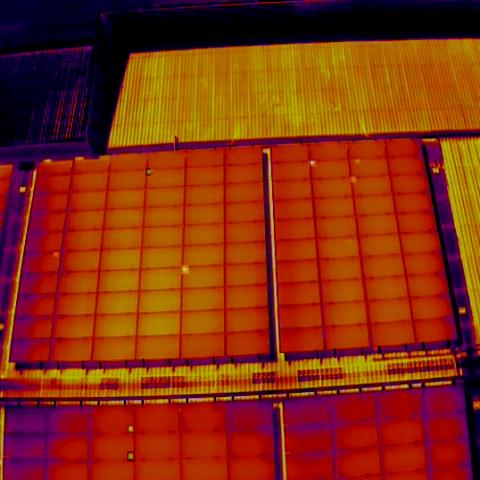fault: (127, 451, 135, 462), (181, 265, 189, 274), (126, 424, 134, 433), (308, 160, 316, 167), (350, 176, 356, 183), (53, 251, 59, 257), (354, 158, 360, 164), (146, 169, 151, 176), (151, 170, 154, 174)
